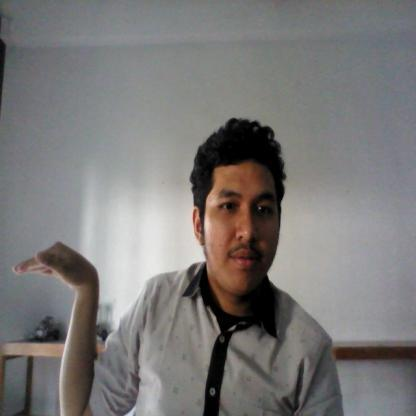Z: (13, 239, 104, 416)
